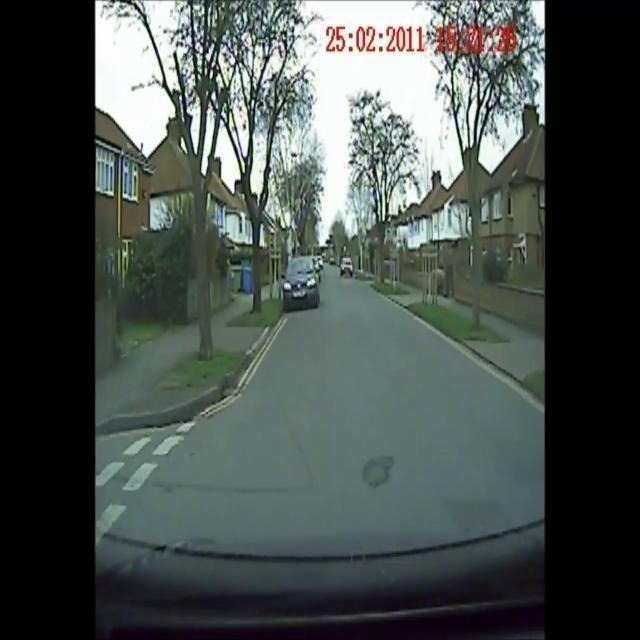pothole: (357, 450, 402, 500)
